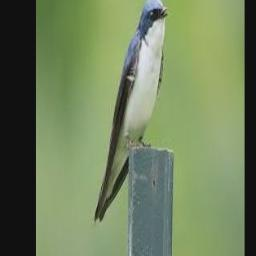Swallow: (94, 0, 170, 223)
